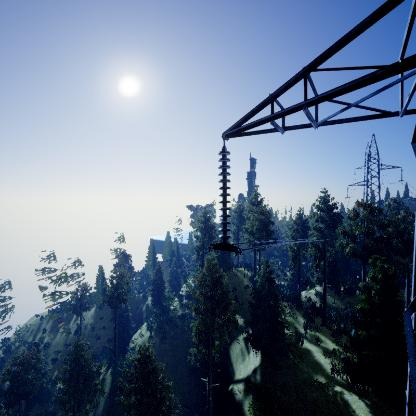insulator: (217, 146, 233, 243)
